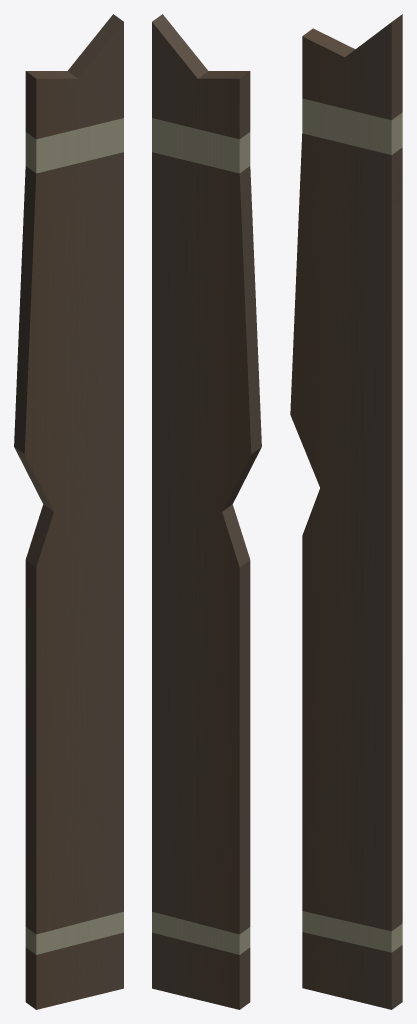
File: Wood_7C.fbx
3 views of the same model, side by side, from view 1: azimuth 30°, elevation 25°; view 2: azimuth 150°, elevation 25°; view 3: azimuth 330°, elevation 25° (orthographic). The views are drawn at different scales.
Visible parts, largest first — view 1: pCube613; view 2: pCube613; view 3: pCube613.
Part boxes in pixels (x1,y1,x2,y2): pCube613: [14, 14, 123, 1009]; pCube613: [152, 14, 261, 1009]; pCube613: [290, 14, 402, 1009].
Size of the model in its own units: 27.18 by 253 by 5.04.
